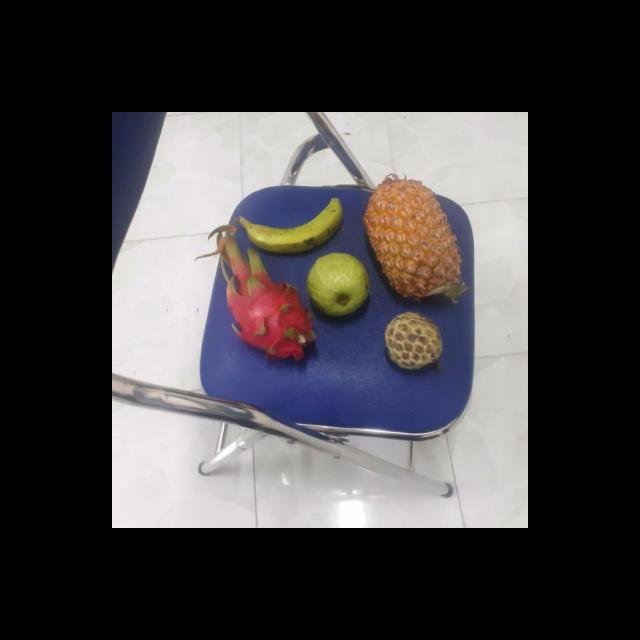Sakya fruit: (385, 312, 449, 371)
banana: (241, 192, 345, 254)
guava: (306, 252, 374, 318)
pineapple: (366, 178, 469, 303)
pitaya: (225, 241, 318, 358)
